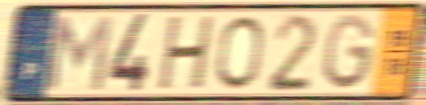2: (267, 11, 318, 94)
4: (105, 10, 152, 97)
G: (321, 11, 378, 93)
H: (155, 12, 218, 93)
M: (43, 13, 115, 94)
O: (214, 14, 266, 93)
